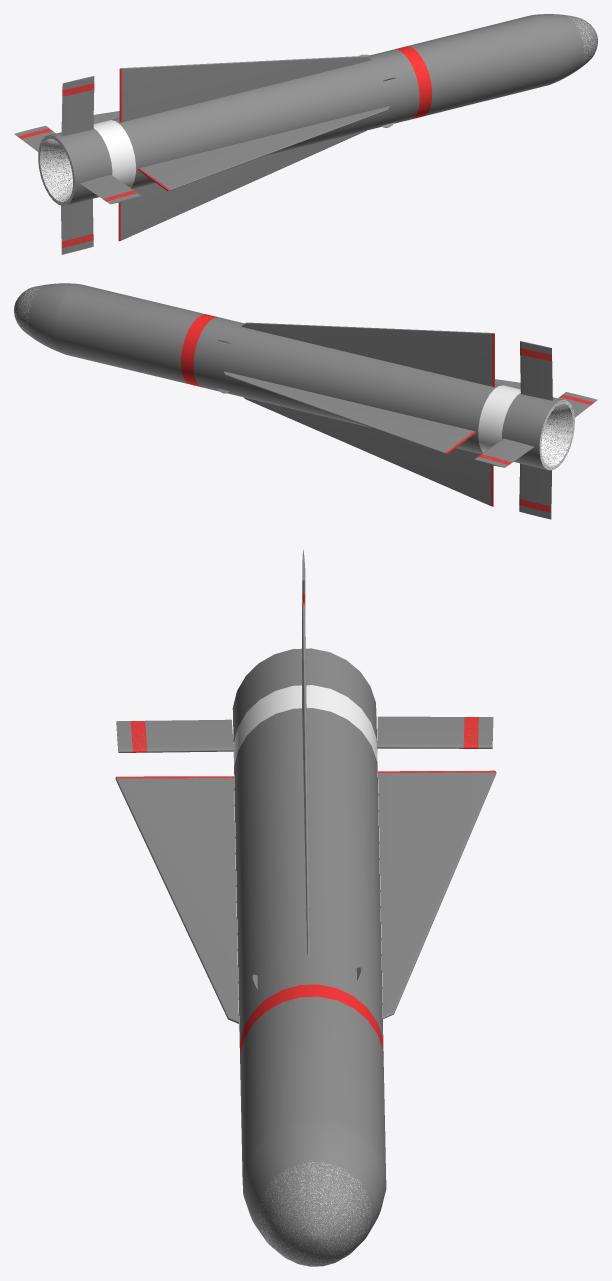
3 views of the same model, one above another, from view 1: azimuth 30°, elevation 25°; view 2: azimuth 150°, elevation 25°; view 3: azimuth 270°, elevation 25° (orthographic). The views are drawn at different scales.
Parts seen in each view (by area): view 1: Component_1 (×8), wing (×5), b_wing (×3); view 2: Component_1 (×8), wing (×5), b_wing (×3); view 3: Component_1 (×6), wing (×3), b_wing (×2).
Part boxes in pixels (left/top/right/bottom): Component_1 (×8): left=38, top=14, right=597, bottom=205; wing (×5): left=121, top=55, right=388, bottom=240; b_wing (×3): left=61, top=90, right=133, bottom=241; Component_1 (×8): left=14, top=283, right=574, bottom=470; wing (×5): left=224, top=322, right=492, bottom=505; b_wing (×3): left=481, top=354, right=552, bottom=506; Component_1 (×6): left=232, top=648, right=386, bottom=1266; wing (×3): left=117, top=604, right=494, bottom=1020; b_wing (×2): left=145, top=716, right=464, bottom=752.
Size of the model in its own units: 23.14 by 7.07 by 7.07.
